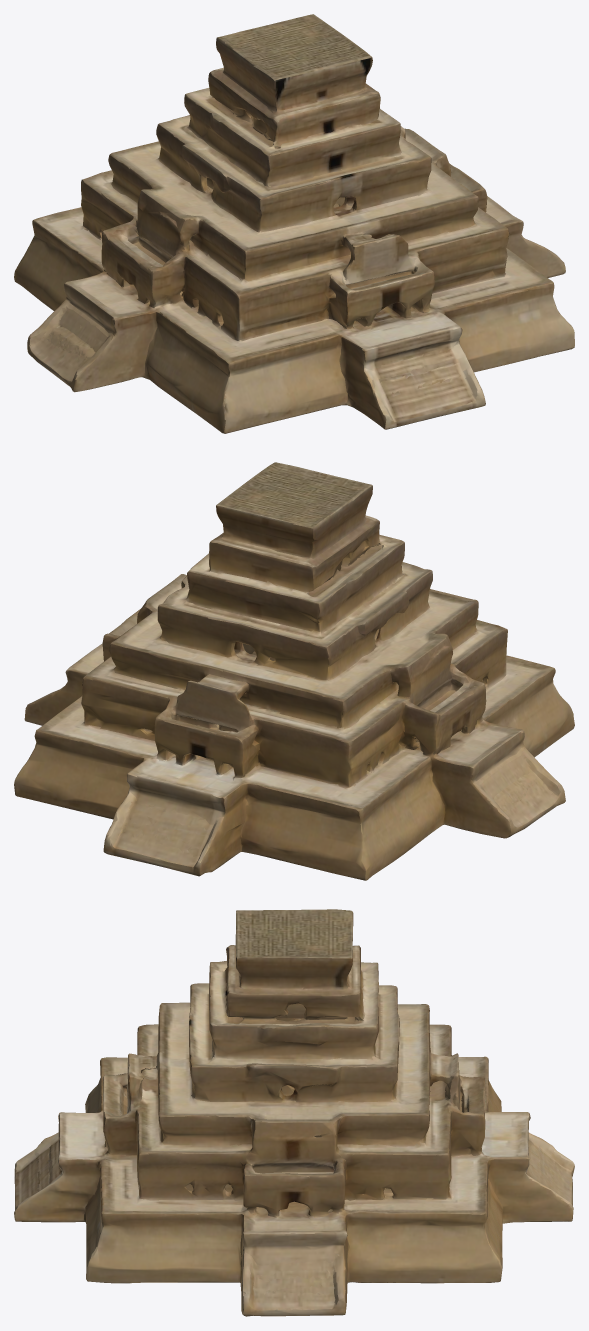
Rendered from temple__ziggurat_persian.glb.
3 views of the same model, one above another, from view 1: azimuth 30°, elevation 25°; view 2: azimuth 150°, elevation 25°; view 3: azimuth 270°, elevation 25° (orthographic).
Size of the model in its own units: 2.02 by 1.06 by 2.01.
Materials: 1 (1 with a texture image).
